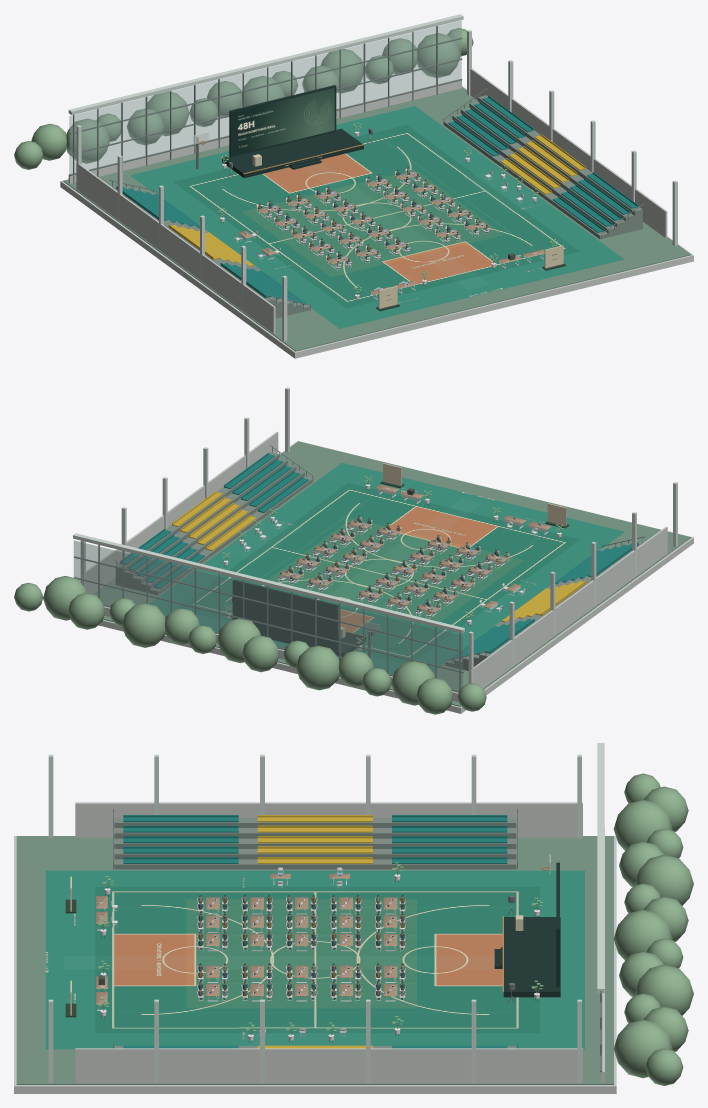
The model's file is gym.glb.
The picture shows the model from 3 angles, top to bottom: view 1: azimuth 30°, elevation 25°; view 2: azimuth 150°, elevation 25°; view 3: azimuth 270°, elevation 25°; orthographic projection. The views are drawn at different scales.
Visible parts, largest first — view 1: Gym_Mesh_0372, Gym_Mesh_0491, Gym_Mesh_0371, Gym_Mesh_0425, Gym_Mesh_0370, Gym_Mesh_0537, Gym_Mesh_0483, Gym_Mesh_0532, Gym_Mesh_0512, Gym_Mesh_0490, Gym_Mesh_0527, Gym_Mesh_0515 (+20 smaller); view 2: Gym_Mesh_0372, Gym_Mesh_0491, Gym_Mesh_0371, Gym_Mesh_0425, Gym_Mesh_0536, Gym_Mesh_0483, Gym_Mesh_0370, Gym_Mesh_0512, Gym_Mesh_0518, Gym_Mesh_0524, Gym_Mesh_0515, Gym_Mesh_0521 (+18 smaller); view 3: Gym_Mesh_0372, Gym_Mesh_0371, Gym_Mesh_0483, Gym_Mesh_0425, Gym_Mesh_0370, Gym_Mesh_0532, Gym_Mesh_0374, Gym_Mesh_0527, Gym_Mesh_0395, Gym_Mesh_0381, Gym_Mesh_0388, Gym_Mesh_0402 (+31 smaller).
Boxes of the visible parts, x1,y1,x2,y2 form: Gym_Mesh_0372: [130, 106, 624, 328]; Gym_Mesh_0491: [69, 20, 461, 174]; Gym_Mesh_0371: [63, 87, 691, 351]; Gym_Mesh_0425: [76, 163, 275, 333]; Gym_Mesh_0370: [60, 86, 693, 358]; Gym_Mesh_0537: [232, 87, 334, 154]; Gym_Mesh_0483: [470, 68, 667, 237]; Gym_Mesh_0532: [222, 128, 363, 178]; Gym_Mesh_0512: [68, 14, 463, 114]; Gym_Mesh_0490: [68, 79, 461, 183]; Gym_Mesh_0527: [417, 33, 460, 77]; Gym_Mesh_0515: [66, 118, 109, 163]; Gym_Mesh_0372: [149, 463, 624, 674]; Gym_Mesh_0491: [73, 540, 463, 692]; Gym_Mesh_0371: [93, 441, 691, 706]; Gym_Mesh_0425: [469, 526, 667, 688]; Gym_Mesh_0536: [232, 579, 338, 650]; Gym_Mesh_0483: [80, 431, 278, 594]; Gym_Mesh_0370: [98, 441, 693, 713]; Gym_Mesh_0512: [73, 533, 464, 633]; Gym_Mesh_0518: [296, 645, 339, 690]; Gym_Mesh_0524: [122, 603, 165, 647]; Gym_Mesh_0515: [391, 660, 434, 705]; Gym_Mesh_0521: [217, 618, 260, 662]; Gym_Mesh_0372: [45, 870, 584, 1049]; Gym_Mesh_0371: [16, 836, 613, 1084]; Gym_Mesh_0483: [75, 1048, 582, 1083]; Gym_Mesh_0425: [75, 802, 582, 837]; Gym_Mesh_0370: [14, 836, 616, 1093]; Gym_Mesh_0532: [503, 917, 560, 997]; Gym_Mesh_0374: [114, 859, 516, 869]; Gym_Mesh_0527: [613, 1019, 672, 1078]; Gym_Mesh_0395: [114, 828, 516, 838]; Gym_Mesh_0381: [114, 849, 516, 859]; Gym_Mesh_0388: [114, 838, 516, 848]; Gym_Mesh_0402: [114, 817, 516, 827].
Size of what is drawn, in the model's own units: 65.1 by 10.72 by 64.3.
Materials: 100 (39 with a texture image).
